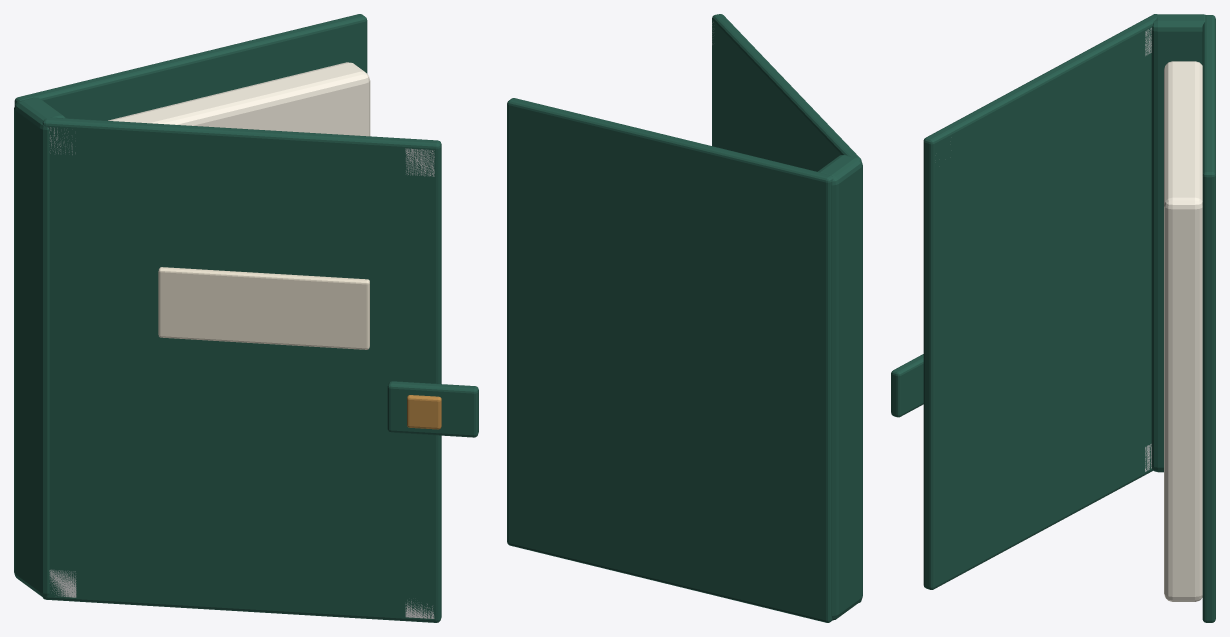
Rendered from hybrid-project-folder-open.glb.
The picture shows the model from 3 angles, left to right: view 1: azimuth 30°, elevation 25°; view 2: azimuth 150°, elevation 25°; view 3: azimuth 270°, elevation 25°; orthographic projection. The views are drawn at different scales.
Parts seen in each view (by area): view 1: Front leather cover, Leather spine, Blank ivory label plate, Back leather cover, Walnut page block, Leather clasp strap, Brass clasp, Front brass corner 4; view 2: Back leather cover, Leather spine, Front leather cover; view 3: Front leather cover, Walnut page block, Back leather cover, Leather spine, Leather clasp strap.
Part boxes in pixels (box(x1,y1,x2,y2)): Front leather cover: box(42, 117, 441, 622); Leather spine: box(14, 97, 65, 596); Blank ivory label plate: box(158, 267, 369, 349); Back leather cover: box(14, 14, 367, 120); Walnut page block: box(108, 62, 370, 136); Leather clasp strap: box(387, 381, 478, 437); Brass clasp: box(407, 395, 441, 429); Front brass corner 4: box(405, 148, 434, 176); Back leather cover: box(507, 98, 832, 622); Leather spine: box(818, 155, 862, 620); Front leather cover: box(712, 14, 861, 602); Front leather cover: box(923, 14, 1158, 589); Walnut page block: box(1164, 61, 1202, 601); Back leather cover: box(1202, 15, 1215, 622); Leather spine: box(1151, 14, 1205, 472); Leather clasp strap: box(891, 354, 923, 417).
Bounding box in the file's own units: 2.58 × 3.35 × 2.19.
